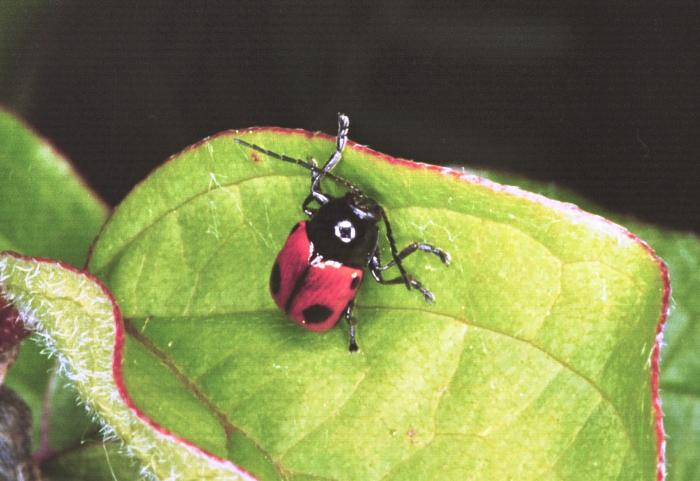Cryptocephalus_bipunctatus: (234, 107, 453, 362)
